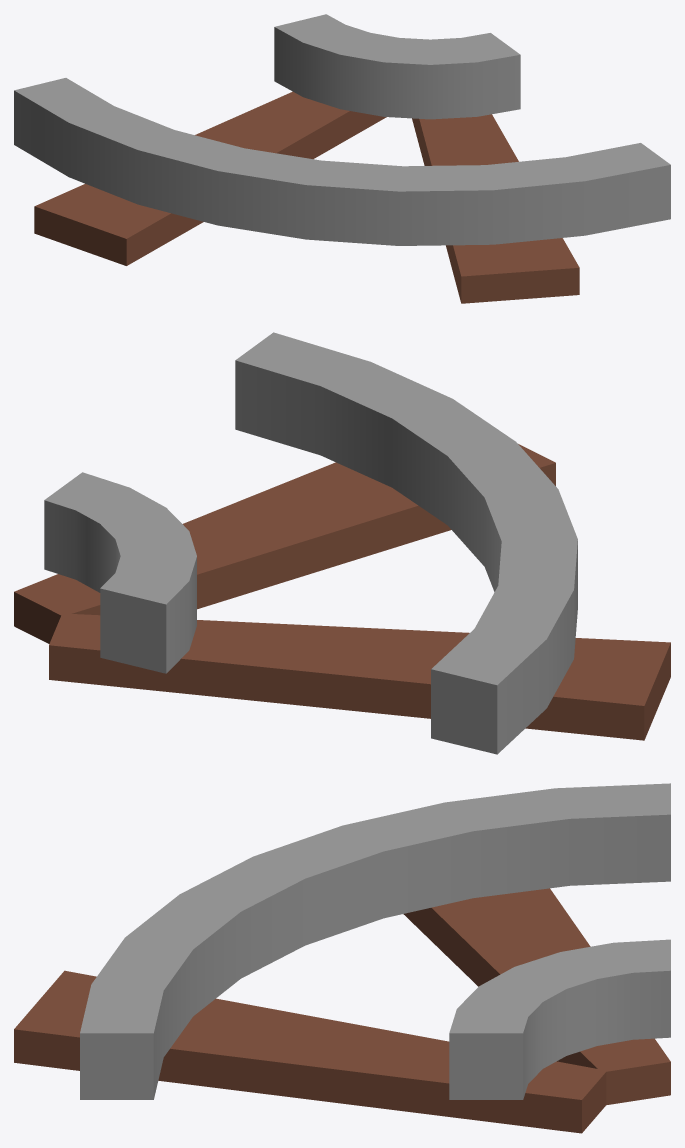
Rendered from track_corner.glb.
The picture shows the model from 3 angles, top to bottom: view 1: azimuth 30°, elevation 25°; view 2: azimuth 150°, elevation 25°; view 3: azimuth 270°, elevation 25°; orthographic projection. The views are drawn at different scales.
Parts seen in each view (by area): view 1: TrackCorner; view 2: TrackCorner; view 3: TrackCorner.
Boxes of the visible parts, bbox=[...] form: TrackCorner: bbox=[14, 14, 670, 303]; TrackCorner: bbox=[14, 332, 670, 754]; TrackCorner: bbox=[14, 783, 670, 1133].
Size of the model in its own units: 0.8915 by 0.15 by 0.8894.
